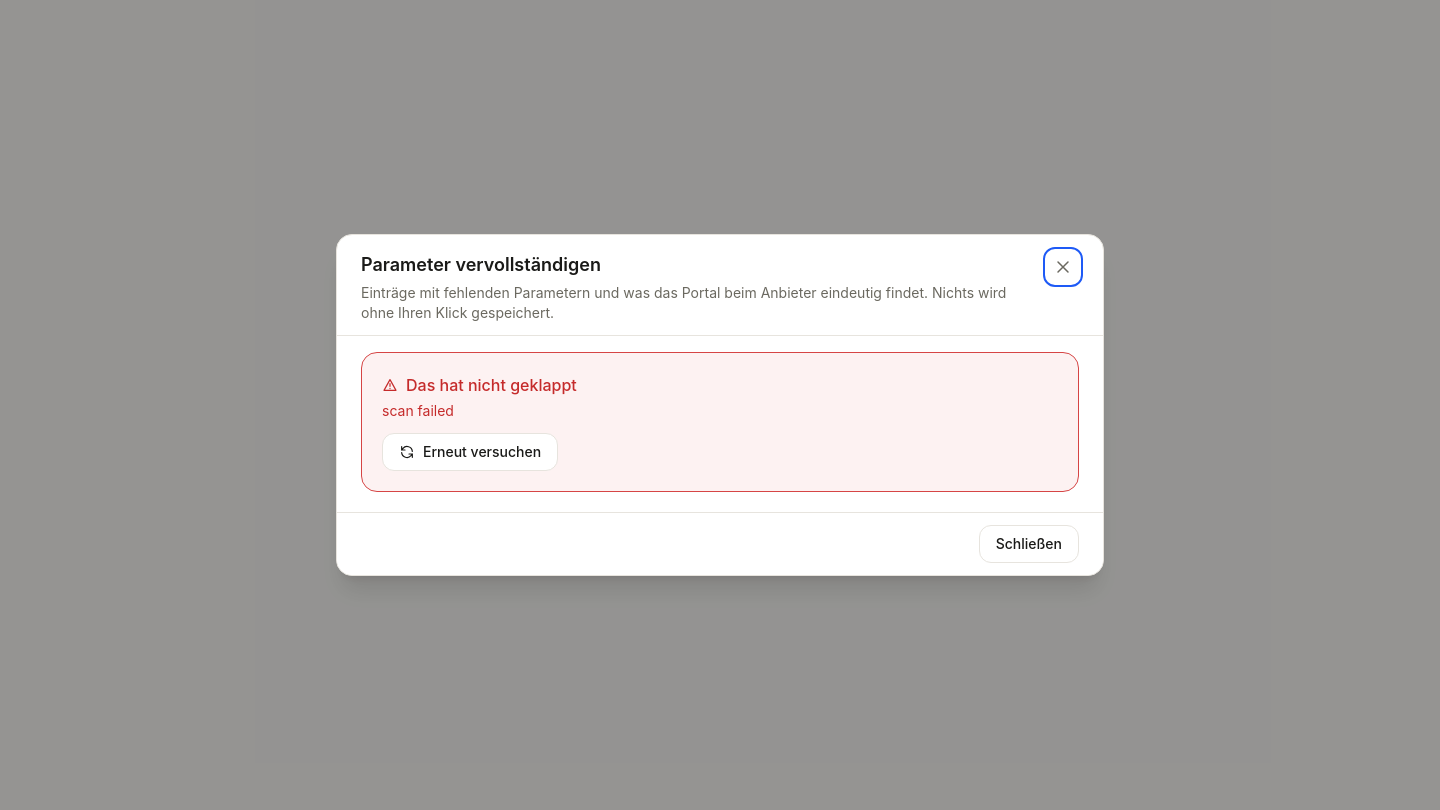
Test: CompleteParamsDialog › shows a load error and retries
The width and height of the screenshot is (1440, 810).
Check: the text "scan failed" is shown, box top-left (382, 402), bottom-right (454, 419)
Step 1. Click the button "Erneut versuchen" → (470, 452), box top-left (382, 433), bottom-right (558, 471)
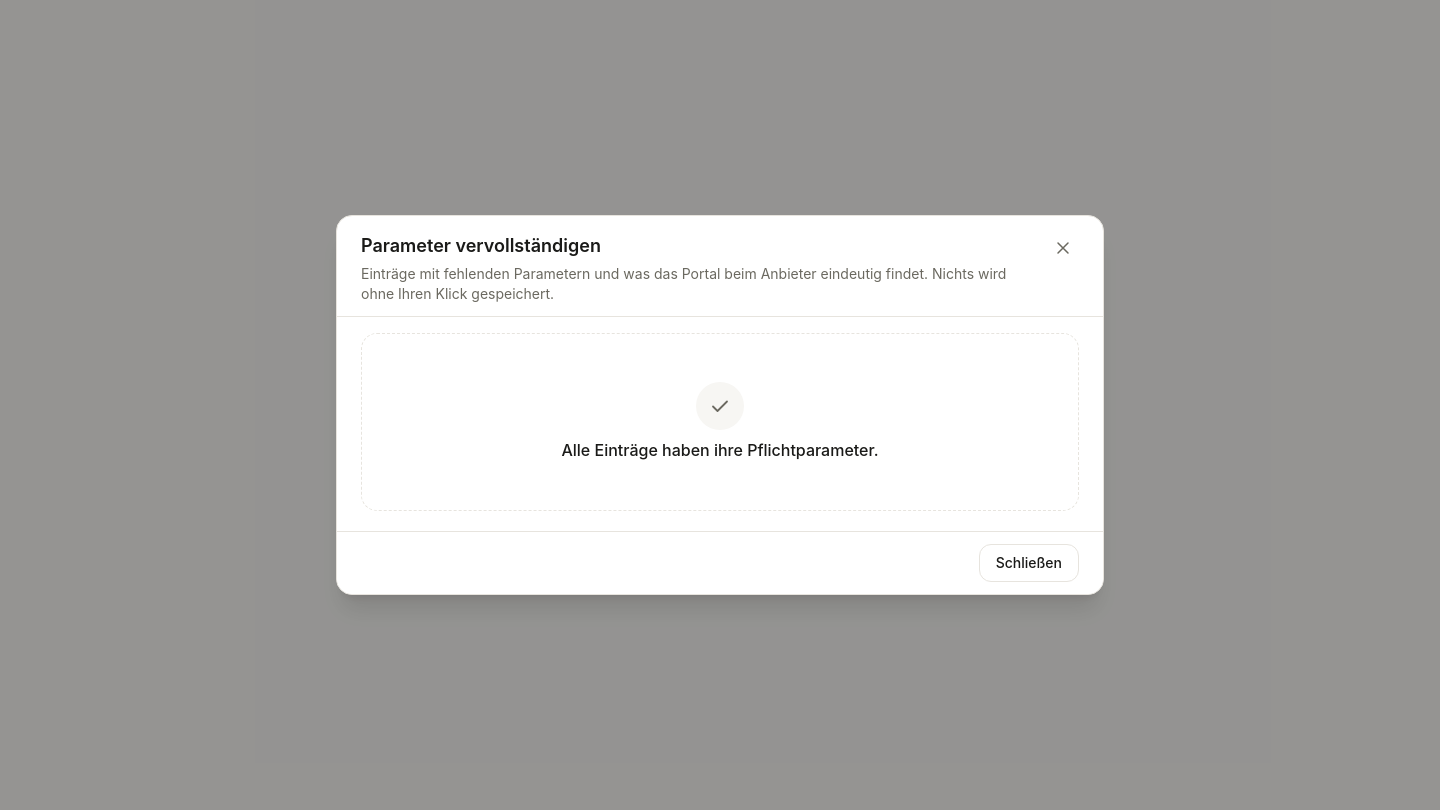
Check: the text "Alle Einträge haben ihre Pflichtparameter." is shown, box top-left (562, 438), bottom-right (879, 462)
